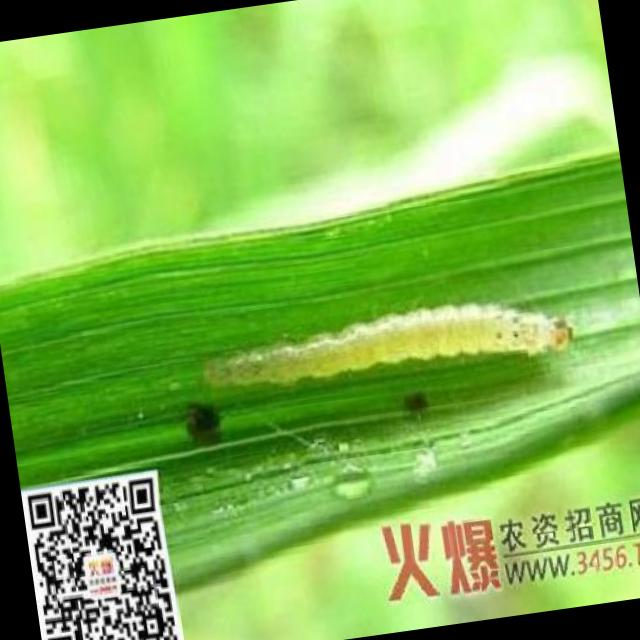leaf-folder: (182, 271, 600, 428)
